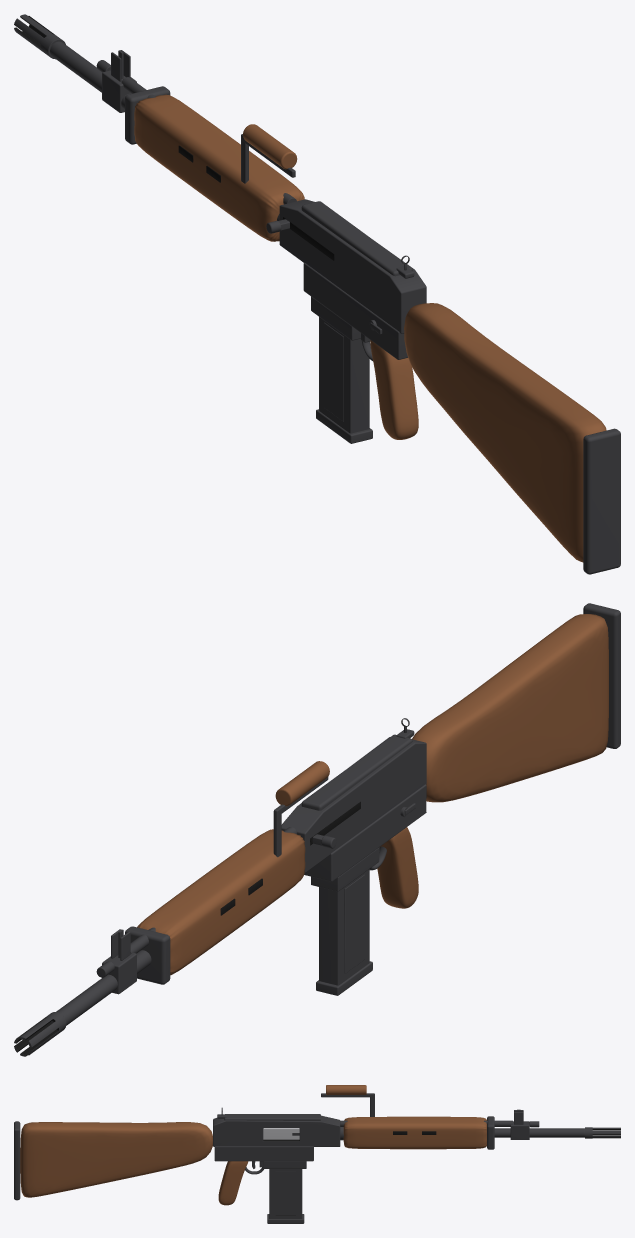
Rendered from fal.glb.
3 renders of one model, top to bottom at view 1: azimuth 30°, elevation 25°; view 2: azimuth 150°, elevation 25°; view 3: azimuth 270°, elevation 25°, orthographic. The views are drawn at different scales.
Parts seen in each view (by area): view 1: receiver, mag; view 2: receiver, mag; view 3: receiver, mag, bolt.
Part boxes in pixels (x1,y1,x2,y2): receiver: (14,14,620,574); mag: (316,317,372,443); receiver: (14,603,620,1056); mag: (316,869,372,995); receiver: (14,1085,620,1205); mag: (267,1169,304,1223); bolt: (263,1128,299,1139).
Size of the model in its own units: 0.0678 by 0.3025 by 1.27.
